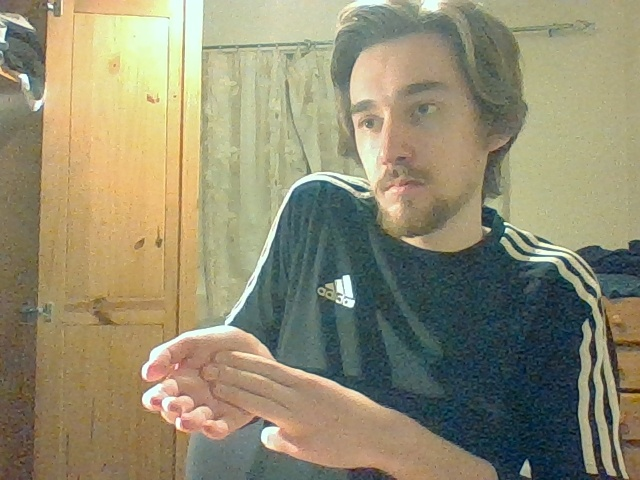mother: (140, 326, 282, 438)
